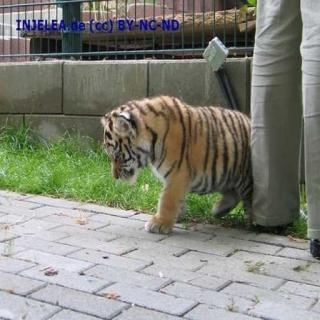Tiger: (95, 83, 255, 232)
